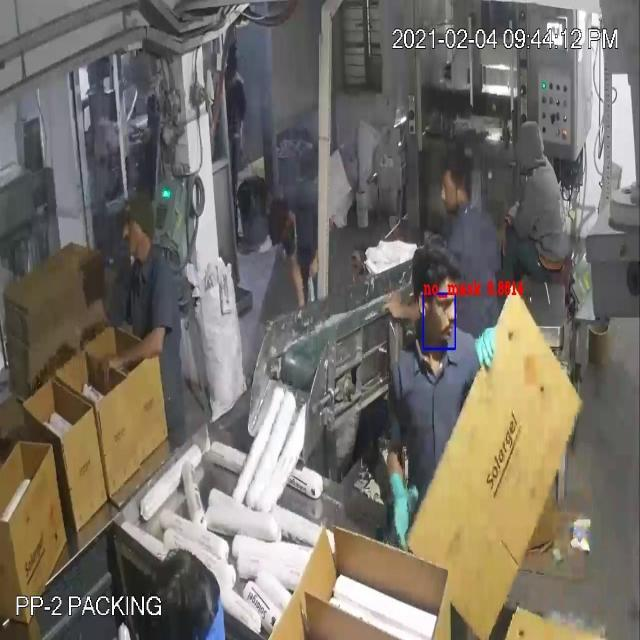No_Gloves: (34, 66, 485, 498)
